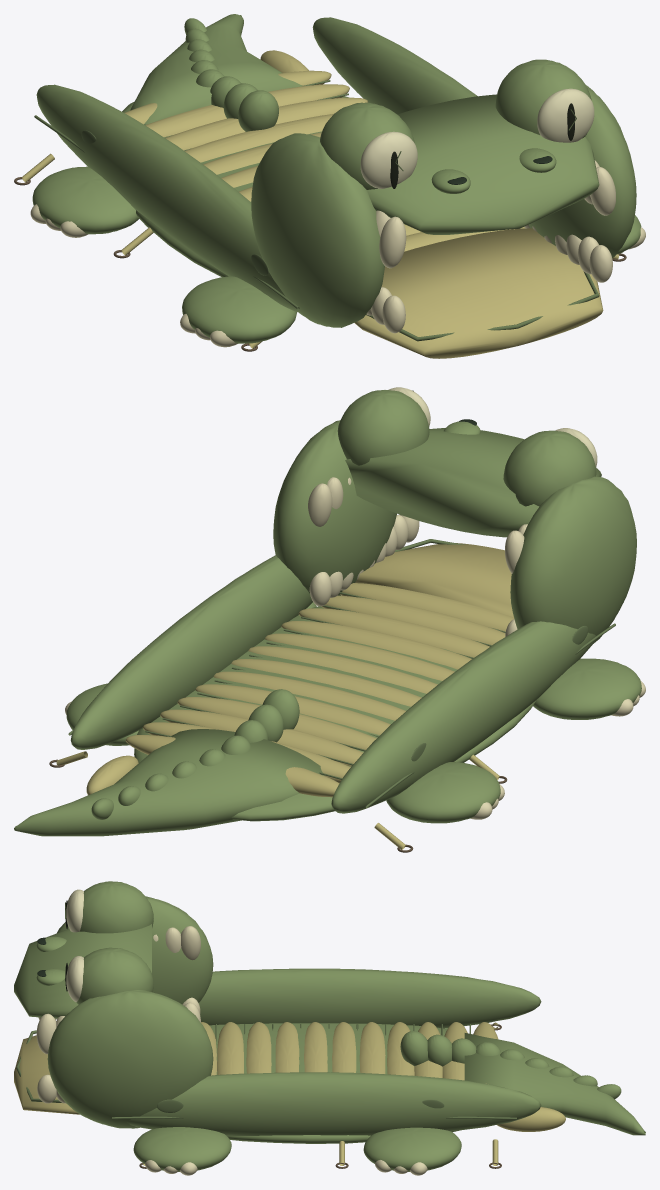
The model's file is inflatable-crocodile.glb.
The picture shows the model from 3 angles, top to bottom: view 1: azimuth 30°, elevation 25°; view 2: azimuth 150°, elevation 25°; view 3: azimuth 270°, elevation 25°; orthographic projection. The views are drawn at different scales.
Visible parts, largest first — view 1: Main sealed bottom mattress; view 2: Main sealed bottom mattress; view 3: Main sealed bottom mattress.
Boxes of the visible parts, x1,y1,x2,y2 form: Main sealed bottom mattress: (14,14,645,358); Main sealed bottom mattress: (14,387,645,852); Main sealed bottom mattress: (14,881,645,1175).
Size of the model in its own units: 6.52 by 3.31 by 10.3.
